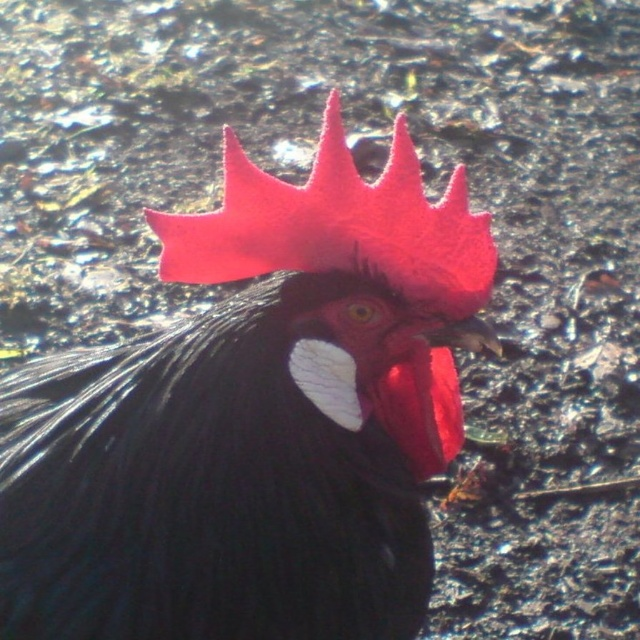Chicken: (63, 110, 516, 640)
